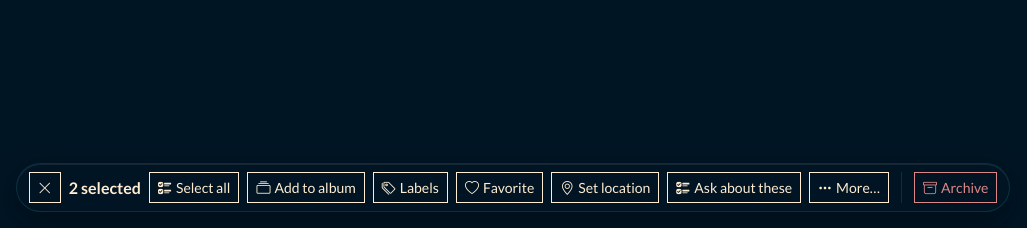
Test: BatchActionBar share action › offers it beside the ZIP download where files can be shared
The width and height of the screenshot is (1027, 228).
Click the button "More…": (849, 188) x1=809 y1=172 x2=889 y2=203
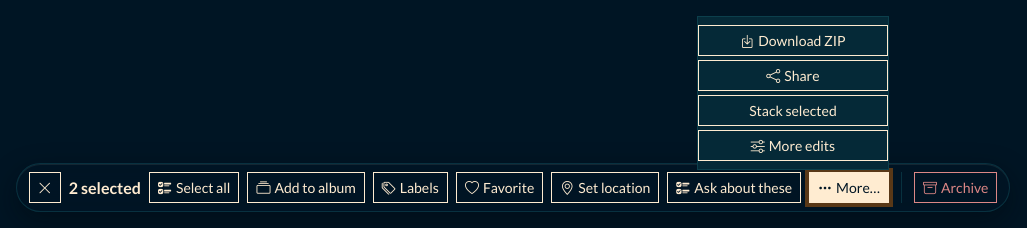
expect the button "Share" is shown: met, box x1=698 y1=60 x2=888 y2=91
expect the button "Download ZIP" is shown: met, box x1=698 y1=25 x2=888 y2=56
